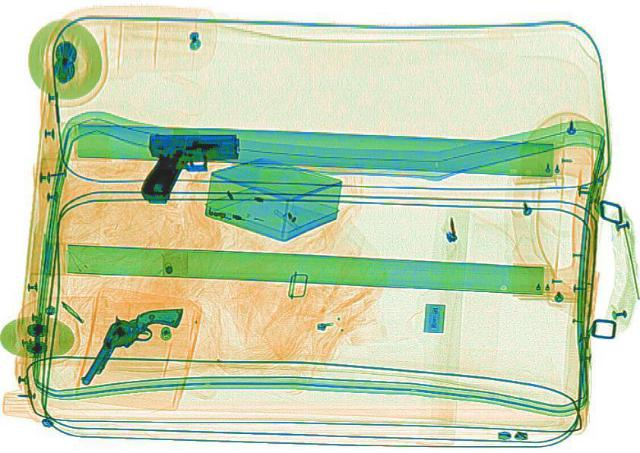Gun: (62, 289, 188, 395), (138, 129, 245, 203)
